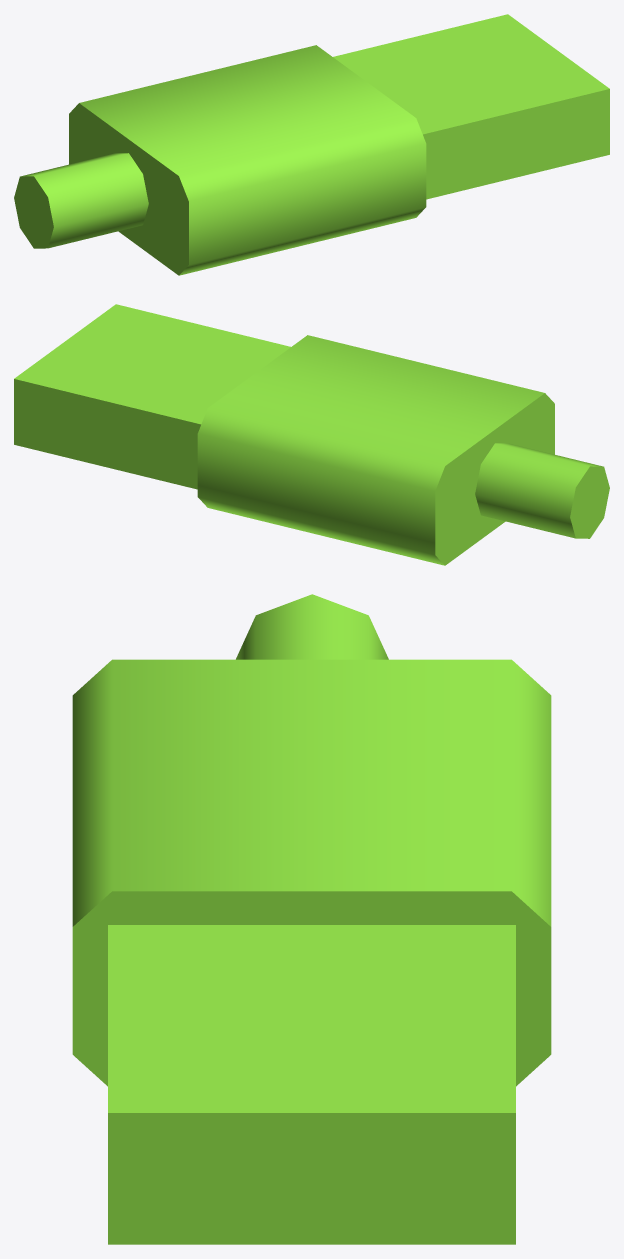
Rendered from SM_USB_2.fbx.
3 views of the same model, one above another, from view 1: azimuth 30°, elevation 25°; view 2: azimuth 150°, elevation 25°; view 3: azimuth 270°, elevation 25° (orthographic). The views are drawn at different scales.
Visible parts, largest first — view 1: SM_USB_2; view 2: SM_USB_2; view 3: SM_USB_2.
Boxes of the visible parts, box(x1,y1,x2,y2) form: SM_USB_2: box(14, 14, 609, 275); SM_USB_2: box(14, 304, 609, 565); SM_USB_2: box(72, 594, 551, 1244).
Size of the model in its own units: 3.59 by 0.6509 by 1.42.
